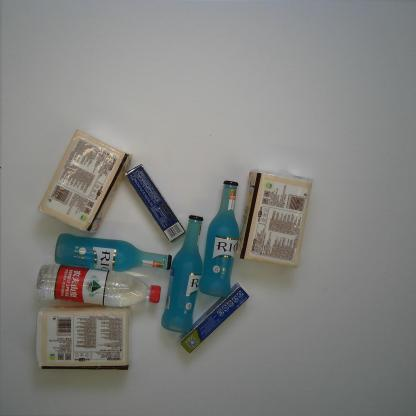Alcohol: (198, 179, 241, 298), (161, 214, 203, 334), (54, 233, 173, 274)
Drink: (35, 263, 162, 309)
Personal Hygiene: (178, 282, 250, 354), (125, 164, 187, 242)
Tissue: (37, 128, 131, 235), (236, 171, 313, 269), (34, 306, 130, 370)
